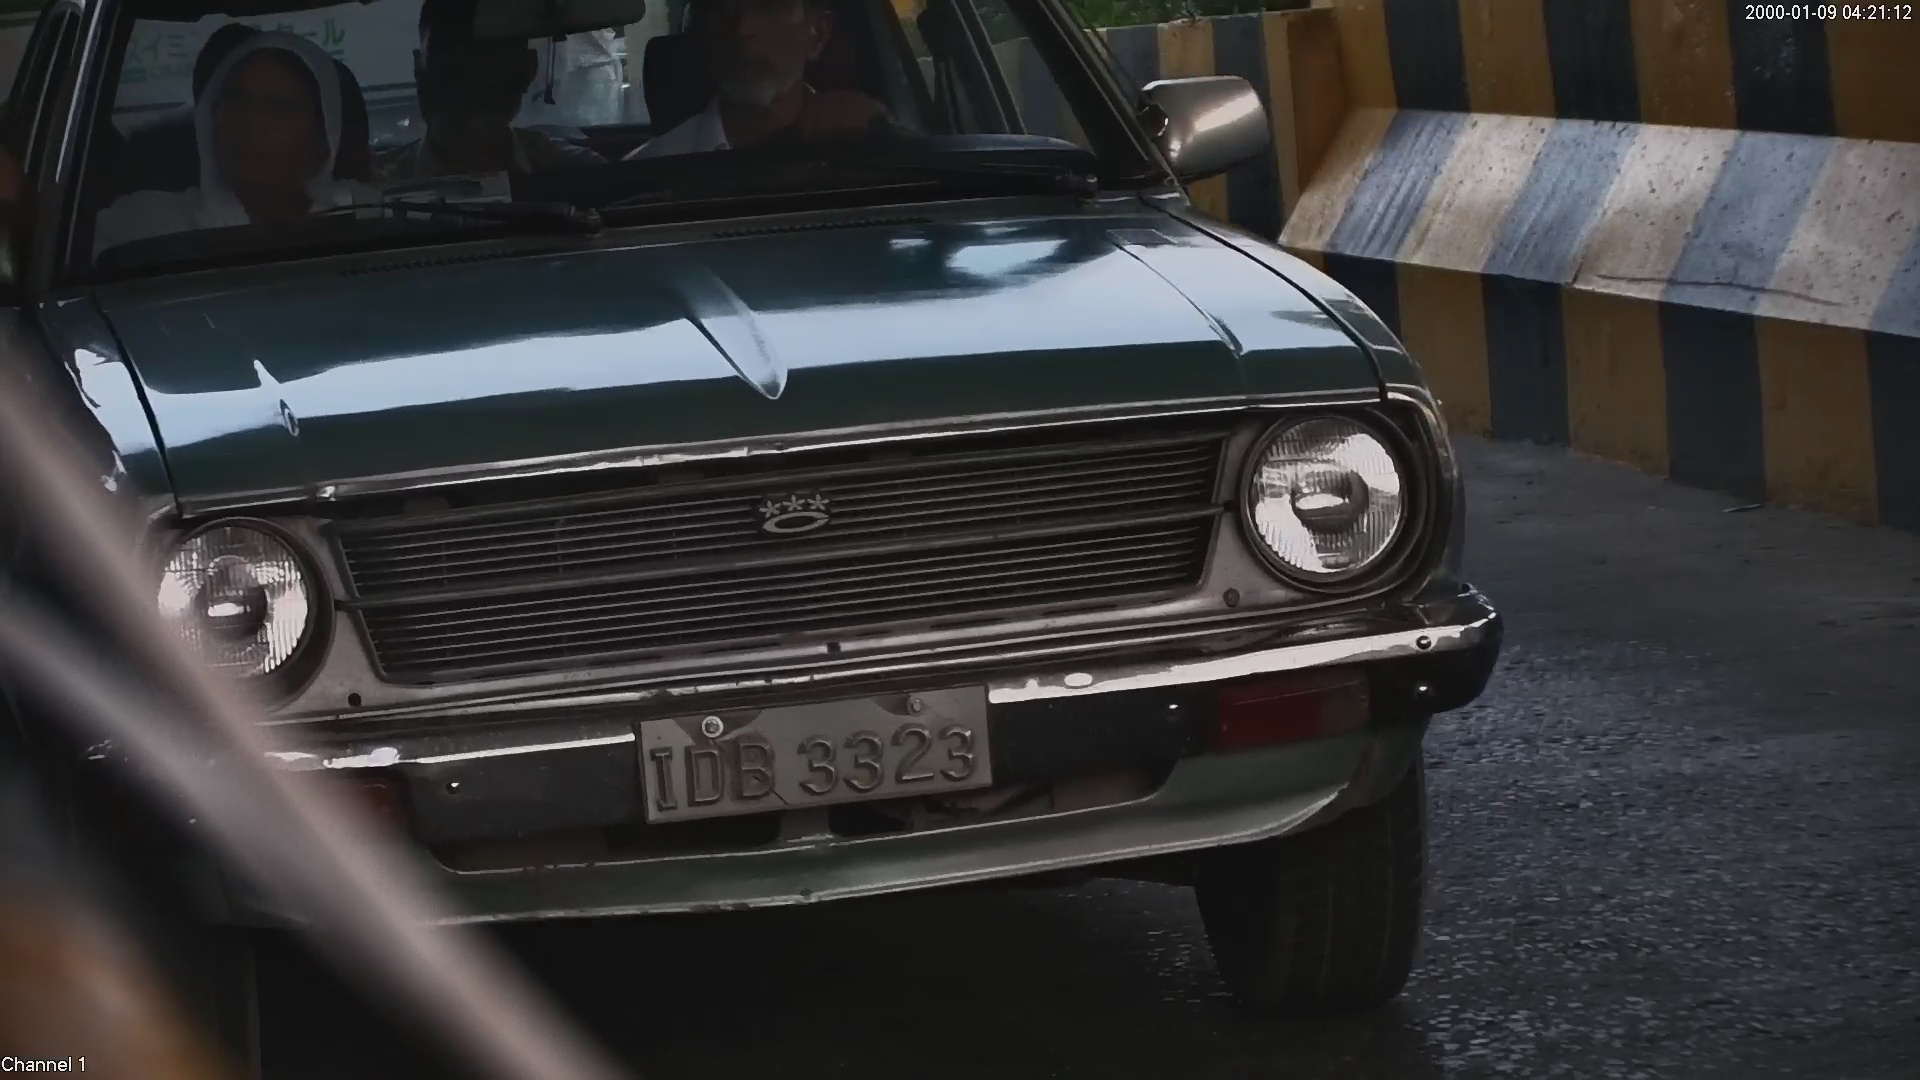Number_Plate: (600, 686, 1019, 807)
Undefined: (150, 516, 341, 701), (1230, 405, 1423, 583)
